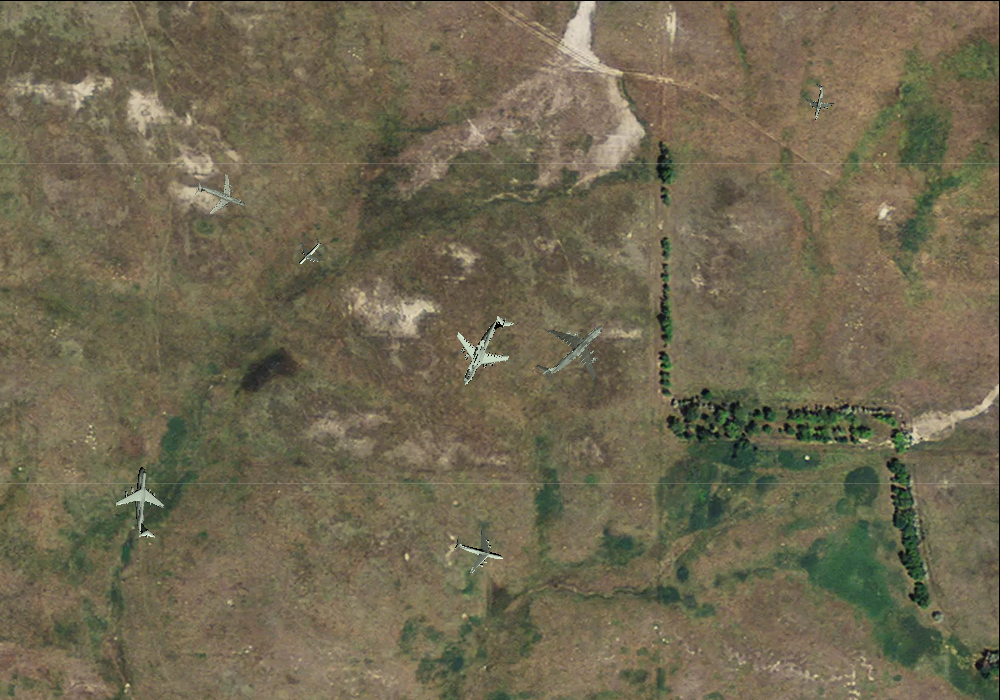plane: (519, 297, 627, 404), (436, 300, 532, 401), (110, 465, 176, 540), (186, 164, 253, 228), (448, 521, 509, 581), (288, 231, 331, 274), (798, 80, 839, 122)
